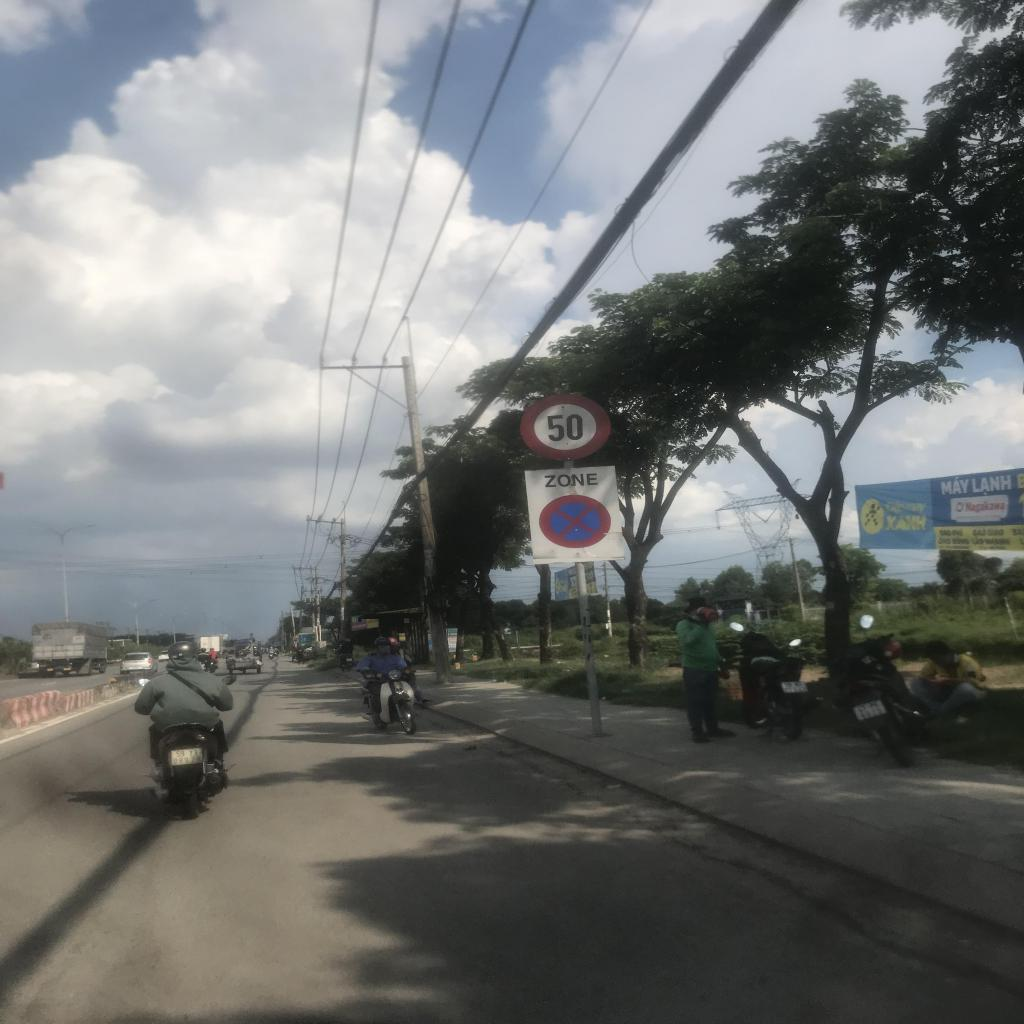cam_dung_xe_va_do_xe: (539, 494, 612, 548)
toc_do_toi_da_50: (520, 394, 610, 462)
